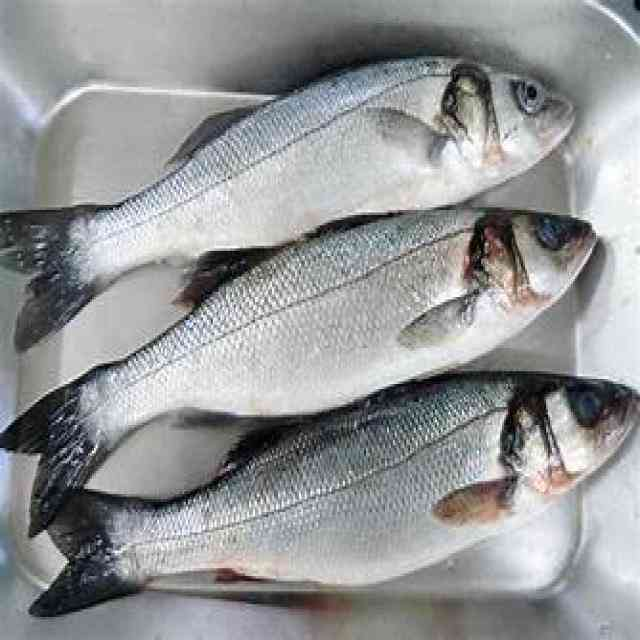Healthy Fish: (0, 52, 640, 613)
